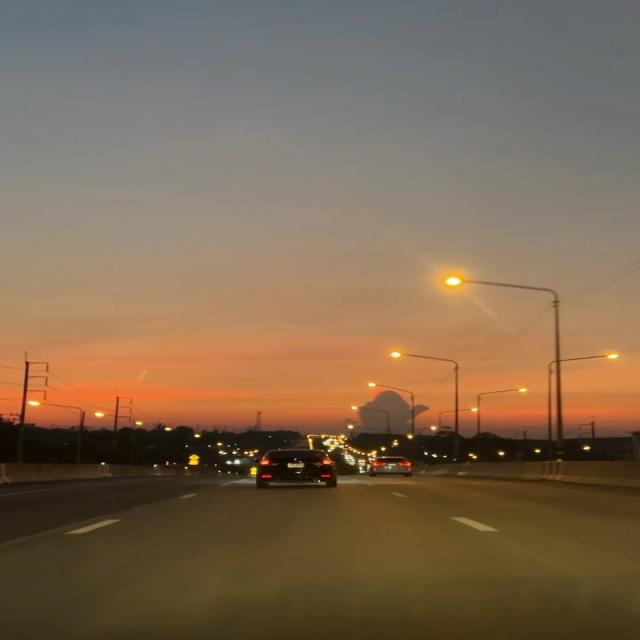Poth-hole: (202, 505, 640, 640)
